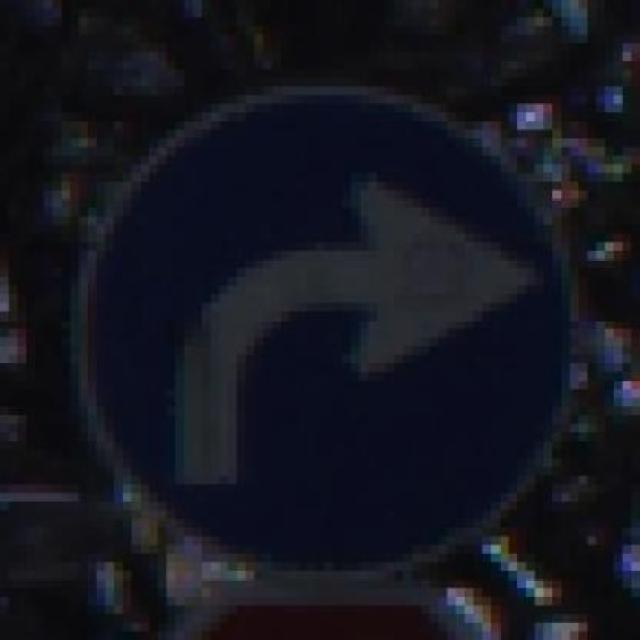Turn right ahead: (52, 69, 597, 597)
